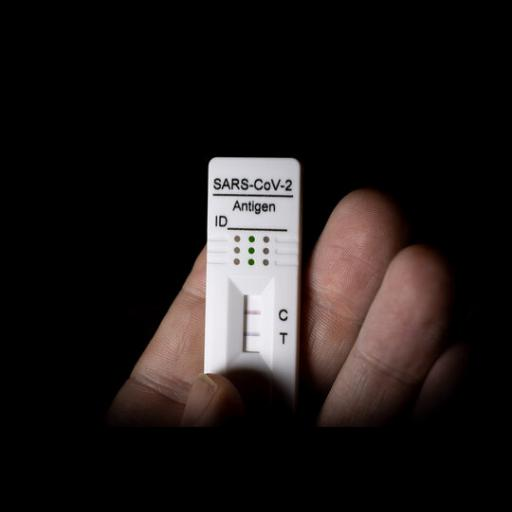Pos: (206, 157, 296, 371)
